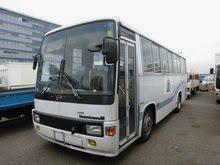bus: (31, 15, 189, 158)
